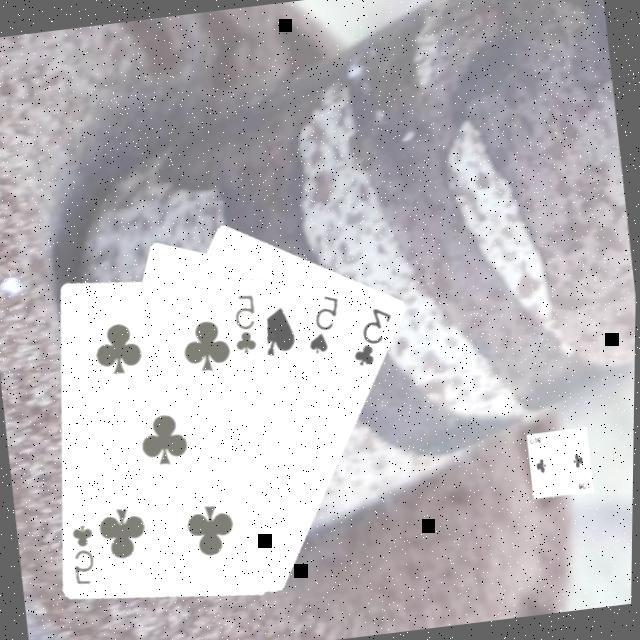3C: (347, 303, 402, 372)
5C: (67, 520, 105, 590), (227, 291, 266, 358)
5S: (301, 292, 350, 359)
